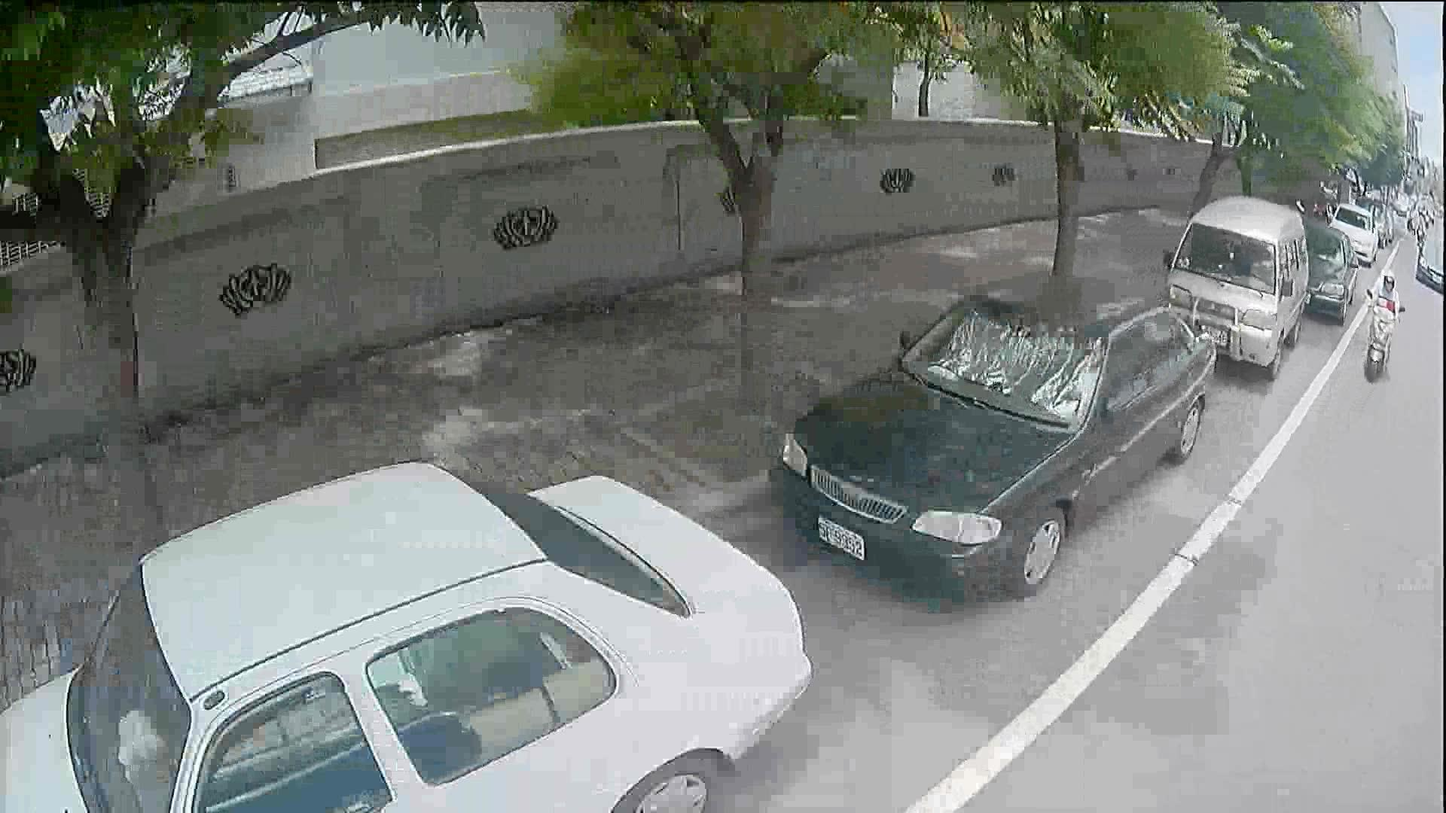person: (1370, 273, 1399, 318)
